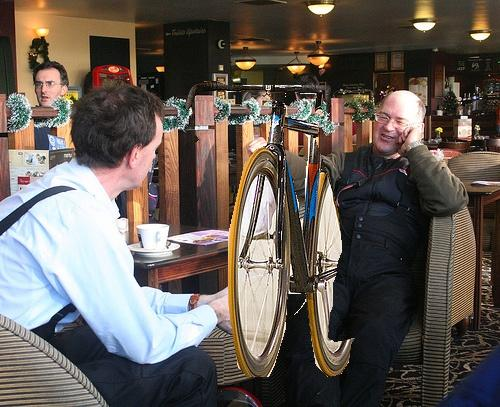tampered: (184, 82, 355, 377)
